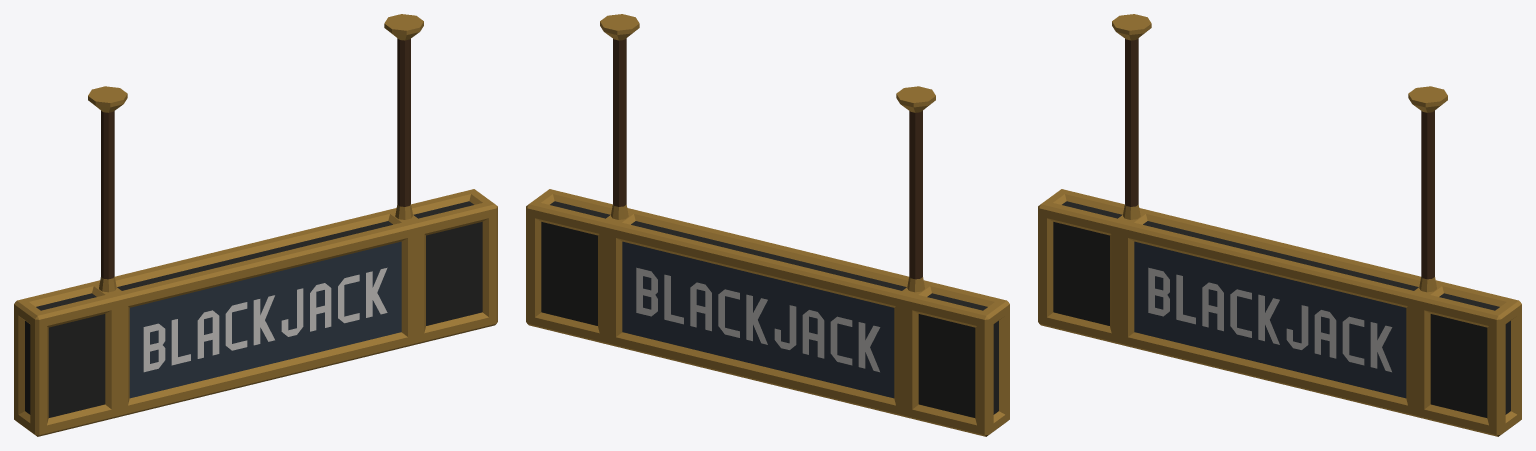
File: hanging-pit-sign-64c316.glb
3 renders of one model, left to right at view 1: azimuth 30°, elevation 25°; view 2: azimuth 150°, elevation 25°; view 3: azimuth 330°, elevation 25°, orthographic.
Visible parts, largest first — view 1: sign; view 2: sign; view 3: sign.
Part boxes in pixels (bbox=[...]): sign: bbox=[14, 14, 497, 436]; sign: bbox=[526, 14, 1009, 436]; sign: bbox=[1038, 14, 1521, 436].
Bounding box in the file's own units: 2 × 1.3 × 0.18.
